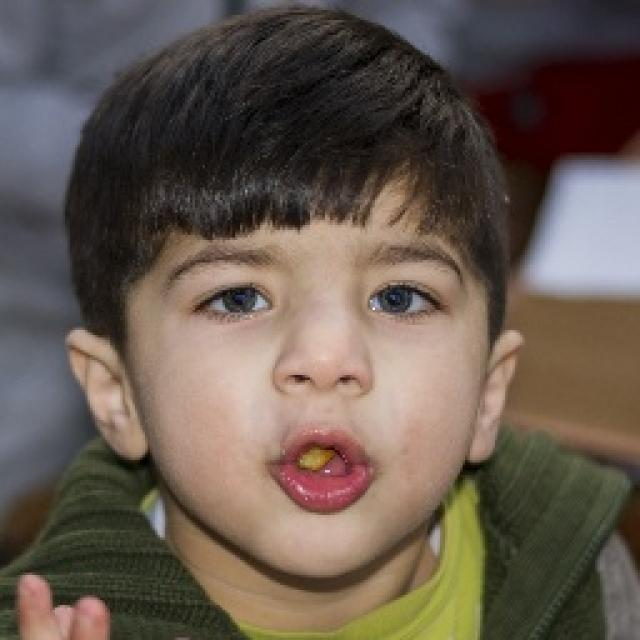earlobe: (64, 327, 151, 461), (467, 332, 523, 464)
